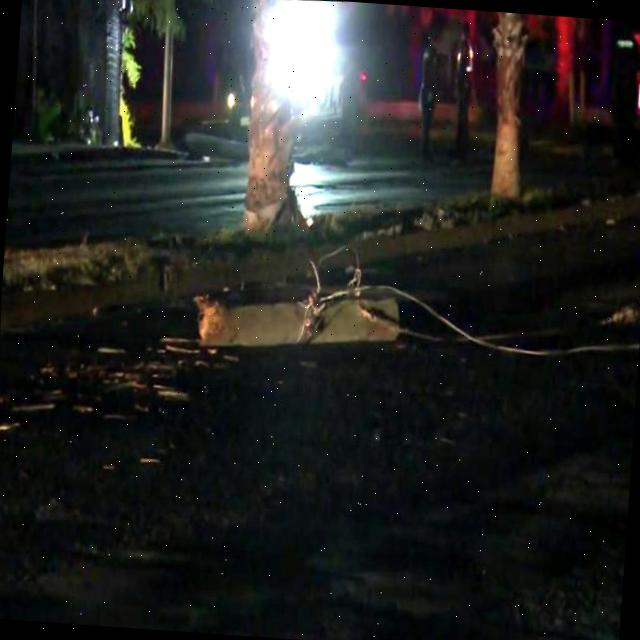Broken Pole: (197, 294, 398, 343)
